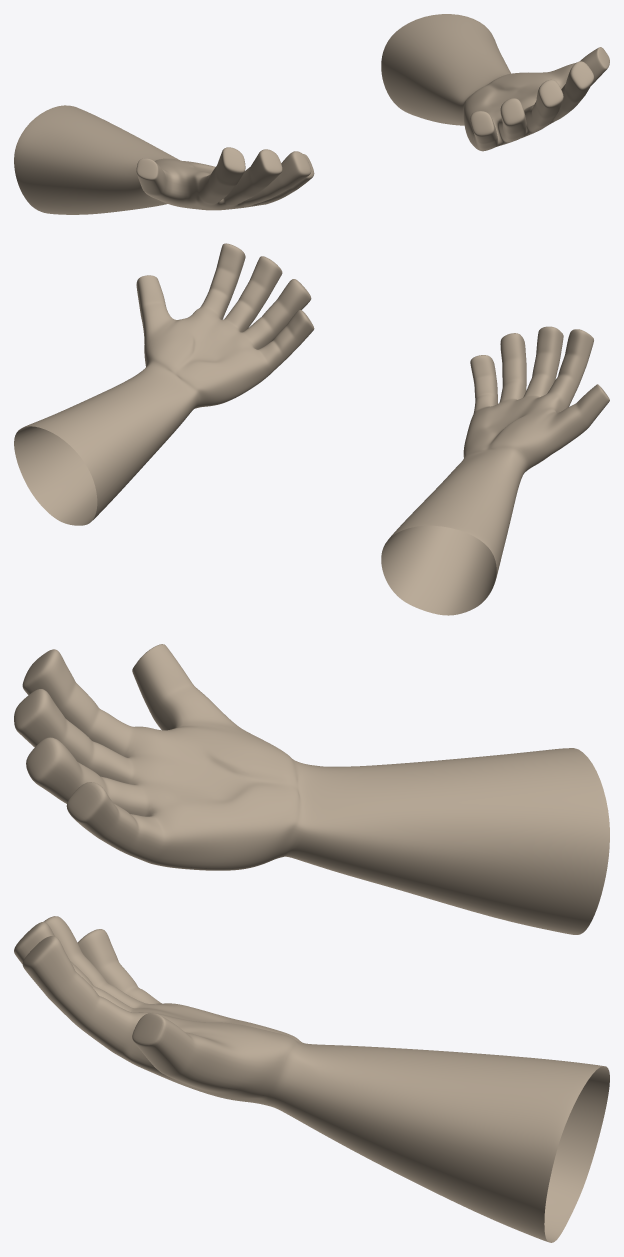
The model's file is Carrying.fbx.
3 views of the same model, one above another, from view 1: azimuth 30°, elevation 25°; view 2: azimuth 150°, elevation 25°; view 3: azimuth 270°, elevation 25° (orthographic). The views are drawn at different scales.
Visible parts, largest first — view 1: Carrying:Bandit_Upper_Body; view 2: Carrying:Bandit_Upper_Body; view 3: Carrying:Bandit_Upper_Body.
Boxes of the visible parts, x1,y1,x2,y2 form: Carrying:Bandit_Upper_Body: (14,14,609,214); Carrying:Bandit_Upper_Body: (14,243,609,615); Carrying:Bandit_Upper_Body: (14,644,609,1242).
Bounding box in the file's own units: 89.22 × 30.28 × 57.13.
